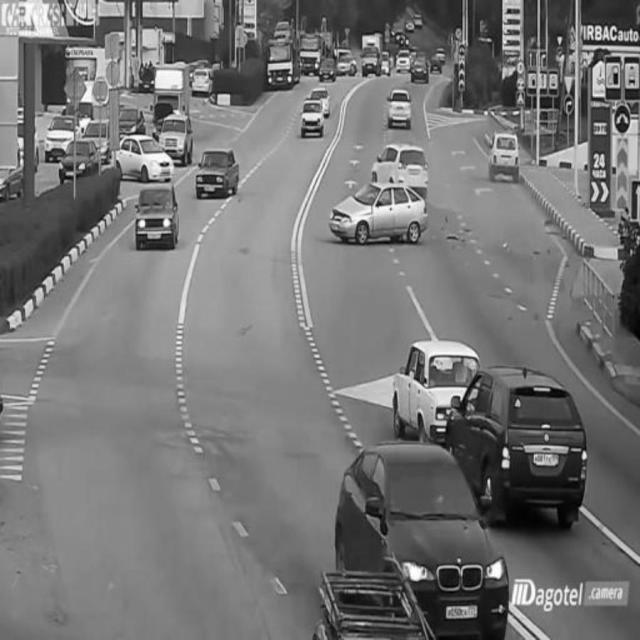vehicle: (333, 447, 508, 613), (463, 363, 583, 510), (394, 333, 477, 441), (325, 177, 433, 248), (114, 126, 176, 180), (134, 184, 180, 248), (192, 143, 240, 200), (371, 144, 431, 186), (44, 98, 78, 164), (56, 132, 100, 182), (489, 130, 524, 181), (268, 30, 298, 87), (164, 107, 194, 157), (299, 95, 329, 140), (358, 31, 384, 78), (385, 87, 413, 129), (407, 50, 432, 82), (190, 62, 214, 94), (317, 55, 341, 81)
